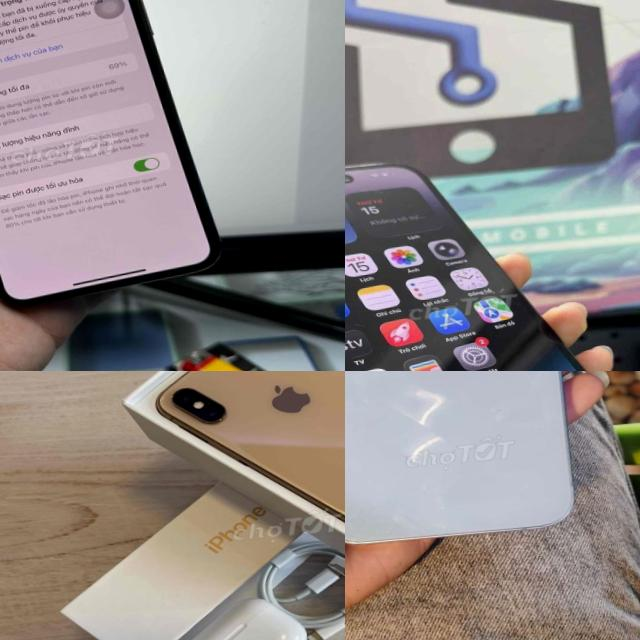gen_11: (0, 0, 233, 315)
gen_14: (345, 127, 636, 371), (345, 371, 599, 558)
gen_x_xs: (119, 371, 345, 606)
